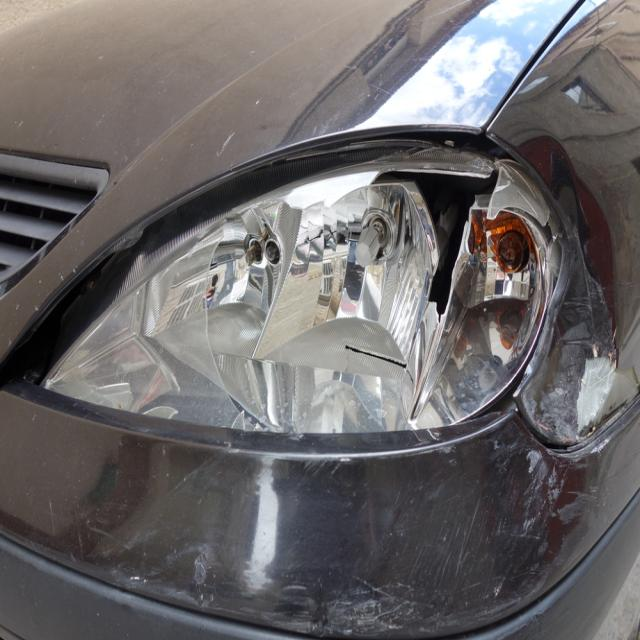dent: (519, 135, 618, 439)
lamp broken: (3, 141, 560, 435)
scratch: (106, 454, 533, 631)
